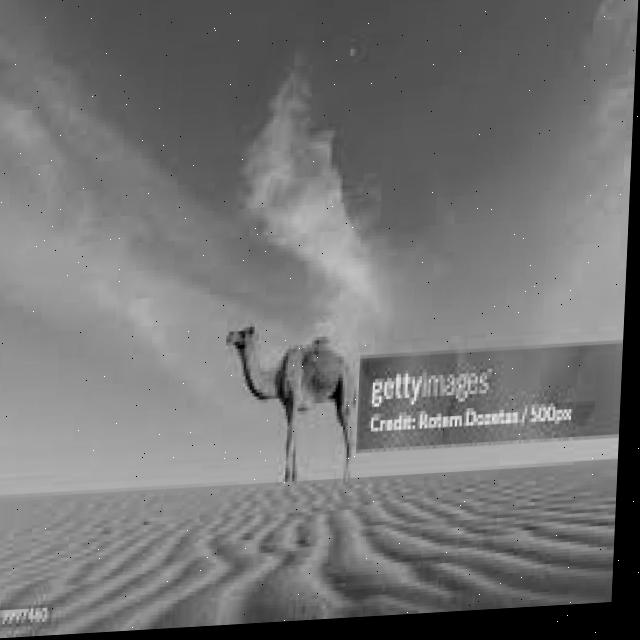Camel: (217, 313, 360, 489)
